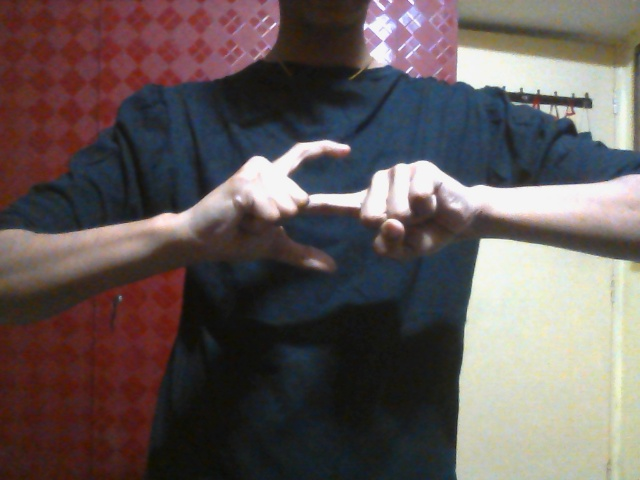E: (197, 139, 468, 278)
